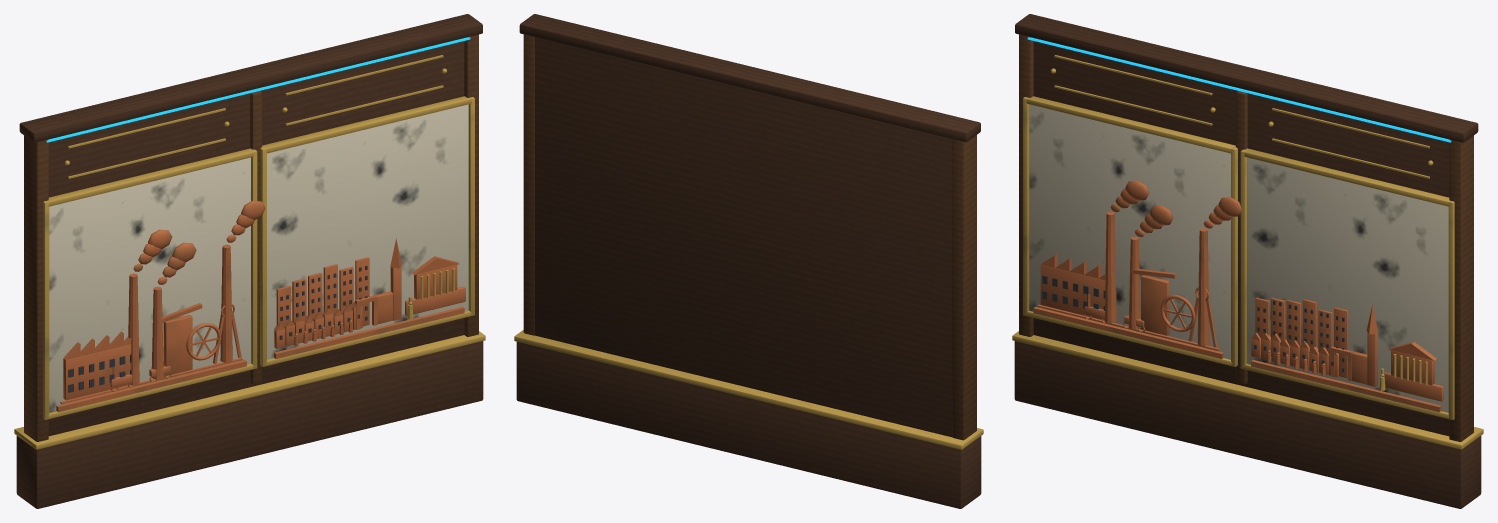
The model's file is change_wall.glb.
3 renders of one model, left to right at view 1: azimuth 30°, elevation 25°; view 2: azimuth 150°, elevation 25°; view 3: azimuth 330°, elevation 25°, orthographic.
Visible parts, largest first — view 1: mrg_change_wall_woodDark, mrg_change_wall_paintCream, mrg_change_wall_copper, mrg_change_wall_brass, mrg_change_wall_oakPainted, glowStrip, mrg_change_wall_darkMetal; view 2: mrg_change_wall_woodDark, mrg_change_wall_oakPainted, mrg_change_wall_brass; view 3: mrg_change_wall_woodDark, mrg_change_wall_paintCream, mrg_change_wall_copper, mrg_change_wall_brass, mrg_change_wall_oakPainted, glowStrip, mrg_change_wall_darkMetal.
Part boxes in pixels (x1,y1,x2,y2): mrg_change_wall_woodDark: (16, 14, 483, 508); mrg_change_wall_paintCream: (49, 104, 468, 412); mrg_change_wall_copper: (56, 200, 465, 412); mrg_change_wall_brass: (14, 55, 485, 449); mrg_change_wall_oakPainted: (24, 34, 478, 441); glowStrip: (46, 37, 470, 142); mrg_change_wall_darkMetal: (68, 265, 367, 392); mrg_change_wall_woodDark: (516, 14, 981, 508); mrg_change_wall_oakPainted: (523, 34, 976, 440); mrg_change_wall_brass: (514, 330, 983, 449); mrg_change_wall_woodDark: (1014, 14, 1481, 508); mrg_change_wall_paintCream: (1029, 104, 1448, 412); mrg_change_wall_copper: (1033, 180, 1443, 412); mrg_change_wall_brass: (1012, 55, 1483, 449); mrg_change_wall_oakPainted: (1019, 34, 1473, 441); glowStrip: (1027, 37, 1451, 142); mrg_change_wall_darkMetal: (1042, 275, 1344, 372).
Bounding box in the file's own units: 3.72 × 2.97 × 0.3669.
7 materials, 5 textured.
